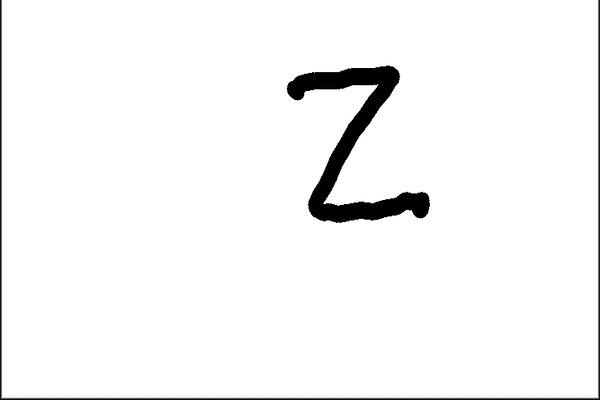Z: (276, 57, 438, 232)
